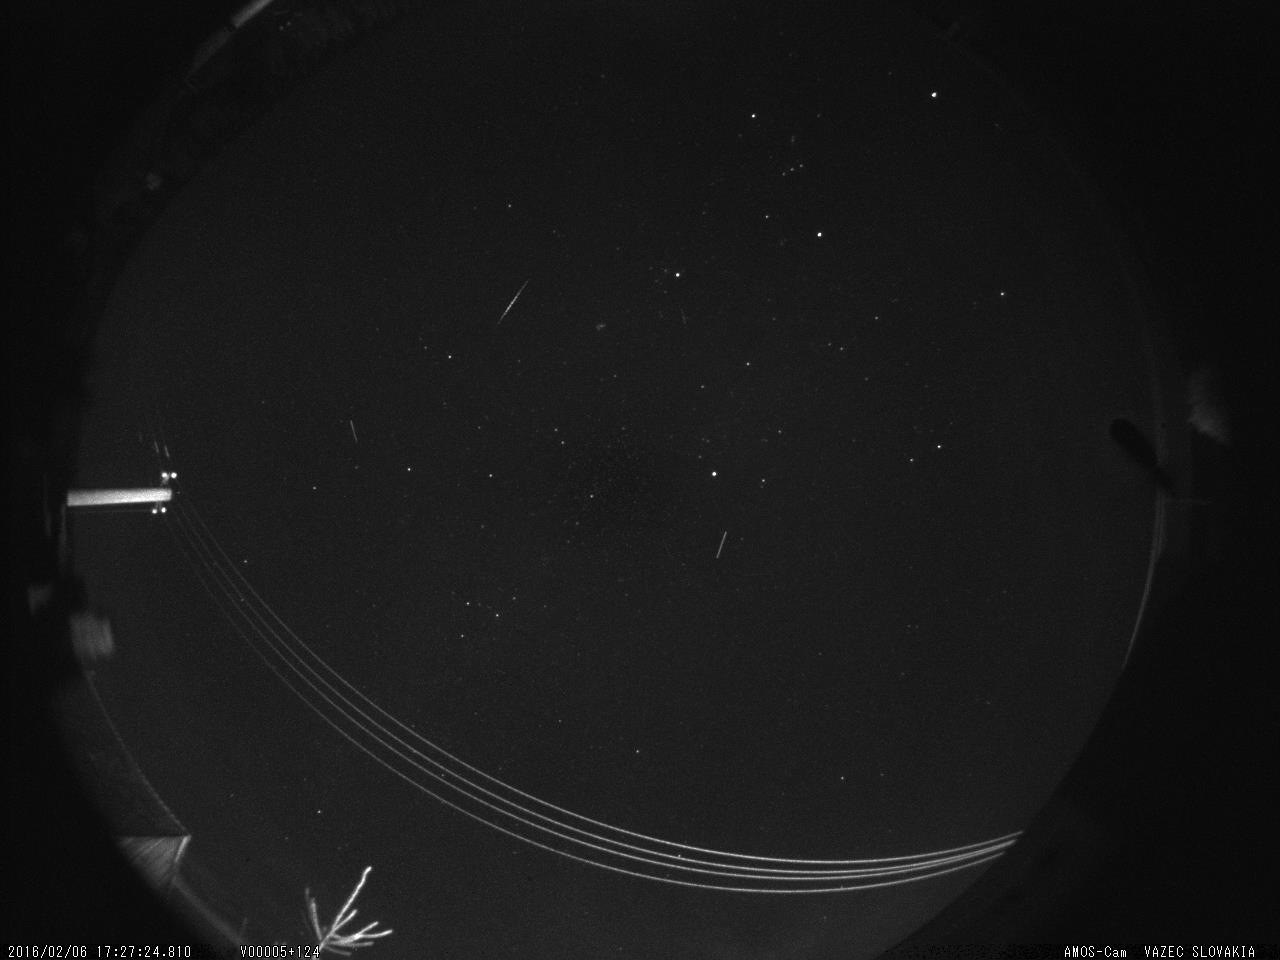meteor: (490, 275, 542, 336)
satelite: (709, 524, 733, 565), (345, 414, 365, 447)
